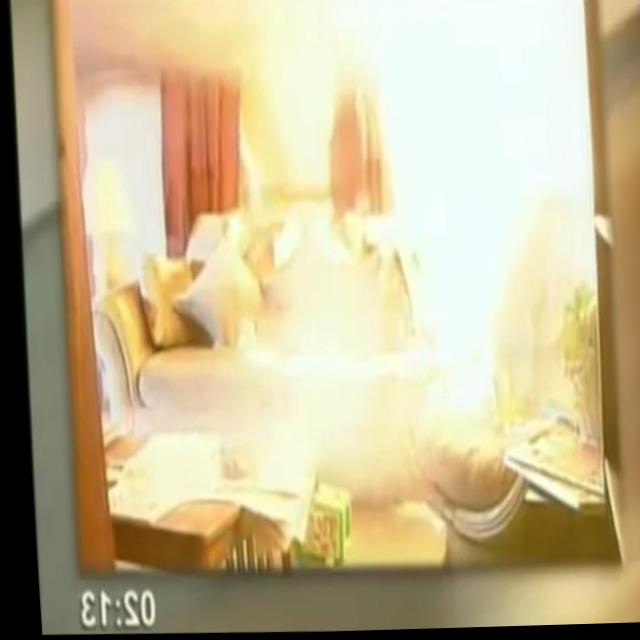fire: (352, 0, 597, 434)
